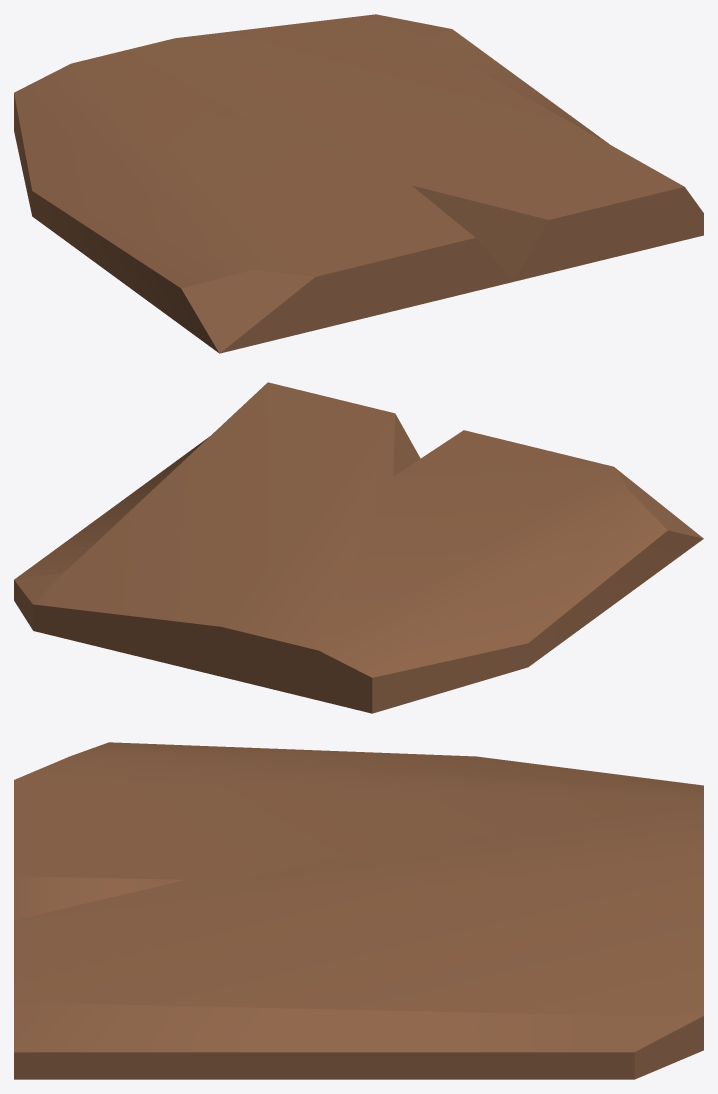
The model's file is Stonewalk_008.FBX.
3 renders of one model, top to bottom at view 1: azimuth 30°, elevation 25°; view 2: azimuth 150°, elevation 25°; view 3: azimuth 270°, elevation 25°, orthographic. The views are drawn at different scales.
Visible parts, largest first — view 1: Stonewalk_008; view 2: Stonewalk_008; view 3: Stonewalk_008.
Part boxes in pixels (<box>): Stonewalk_008: <box>14,14,703,353</box>; Stonewalk_008: <box>14,382,703,713</box>; Stonewalk_008: <box>14,742,703,1079</box>.
Size of the model in its own units: 37.4 by 3.94 by 37.4.
